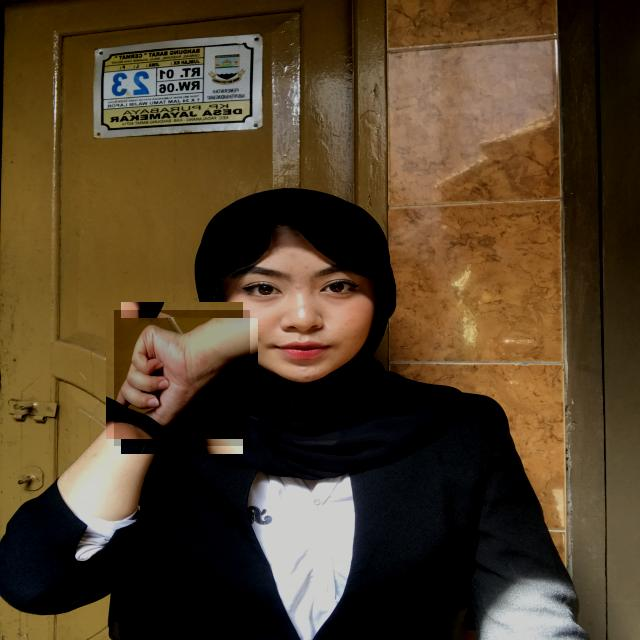ibu: (114, 310, 250, 446)
